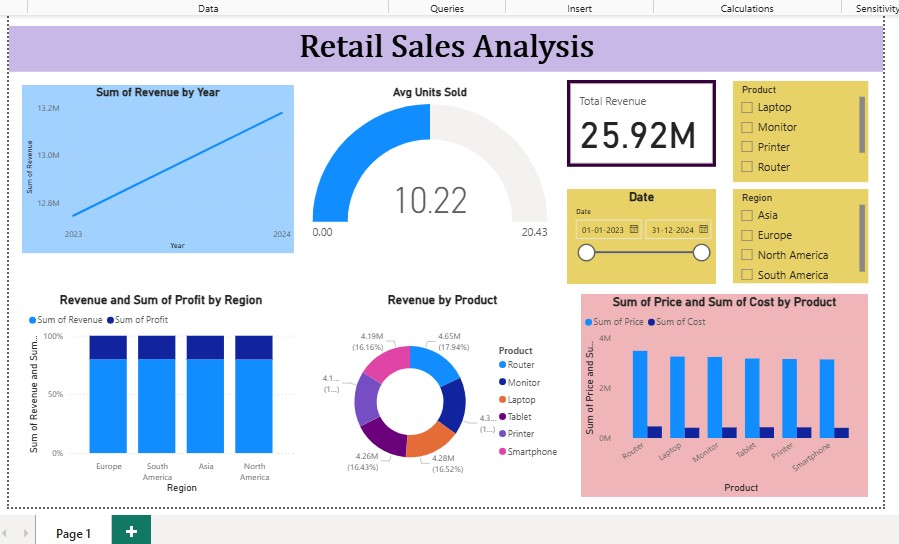

What the dashboard file says about the page in this screenshot:
{"tool":"powerbi","page":{"name":"Page 1","canvas":[1280,720],"ordinal":0},"visuals":[{"type":"donutChart","title":"Revenue by Product","fields":{"Category":["retail_sales_data_dirty.Product"],"Y":["Sum(retail_sales_data_dirty.Revenue)"]},"box":[452.2,405.4,364.4,300],"z":0},{"type":"lineChart","fields":{"Category":["retail_sales_data_dirty.Date.Variation.Date Hierarchy.Year","retail_sales_data_dirty.Date.Variation.Date Hierarchy.Quarter","retail_sales_data_dirty.Date.Variation.Date Hierarchy.Month","retail_sales_data_dirty.Date.Variation.Date Hierarchy.Day"],"Y":["Sum(retail_sales_data_dirty.Revenue)"]},"box":[19,102.4,398,245.9],"z":1000},{"type":"hundredPercentStackedColumnChart","title":"Revenue and Sum of Profit by Region","fields":{"Y":["Sum(retail_sales_data_dirty.Revenue)","Sum(retail_sales_data_dirty.Profit)"],"Category":["retail_sales_data_dirty.Region"]},"box":[23.4,405.4,398,300],"z":2000},{"type":"cardVisual","fields":{"Data":["Sum(retail_sales_data_dirty.Revenue)"]},"box":[816.6,95.1,218,127.3],"z":3000},{"type":"gauge","fields":{"Y":["retail_sales_data_dirty.Measure"]},"box":[439,102.4,354.1,240],"z":4000},{"type":"clusteredColumnChart","fields":{"Y":["Sum(retail_sales_data_dirty.Cost)","Sum(retail_sales_data_dirty.Price)"],"Category":["retail_sales_data_dirty.Product"]},"box":[837.1,408.3,420,297.1],"z":5000},{"type":"slicer","fields":{"Values":["retail_sales_data_dirty.Product"]},"box":[1059.5,96.6,197.6,147.8],"z":6000},{"type":"slicer","fields":{"Values":["retail_sales_data_dirty.Region"]},"box":[1059.5,254.6,197.6,137.6],"z":7000},{"type":"slicer","title":"Date","fields":{"Values":["retail_sales_data_dirty.Date"]},"box":[816.6,254.6,218,137.6],"z":8000},{"type":"textbox","box":[0,16.1,1280.5,67.3],"z":9000}]}

Visuals, with their boxes in screenshot pixels (x1, y1, x2, y2):
"Revenue by Product" donutChart: [325, 295, 577, 503]
lineChart - retail_sales_data_dirty.Date.Variation.Date Hierarchy.Year x retail_sales_data_dirty.Date.Variation.Date Hierarchy.Quarter: [25, 85, 301, 255]
"Revenue and Sum of Profit by Region" hundredPercentStackedColumnChart: [28, 295, 304, 503]
cardVisual - Sum(retail_sales_data_dirty.Revenue): [577, 80, 728, 168]
gauge - retail_sales_data_dirty.Measure: [316, 85, 561, 251]
clusteredColumnChart - Sum(retail_sales_data_dirty.Cost) x Sum(retail_sales_data_dirty.Price): [592, 297, 882, 503]
slicer - retail_sales_data_dirty.Product: [746, 81, 882, 183]
slicer - retail_sales_data_dirty.Region: [746, 190, 882, 286]
"Date" slicer: [577, 190, 728, 286]
textbox: [12, 25, 898, 72]
